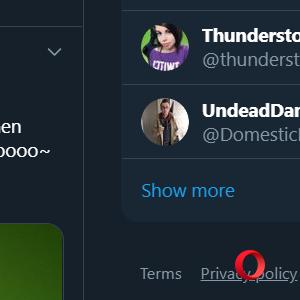opera: (235, 249, 265, 280)
